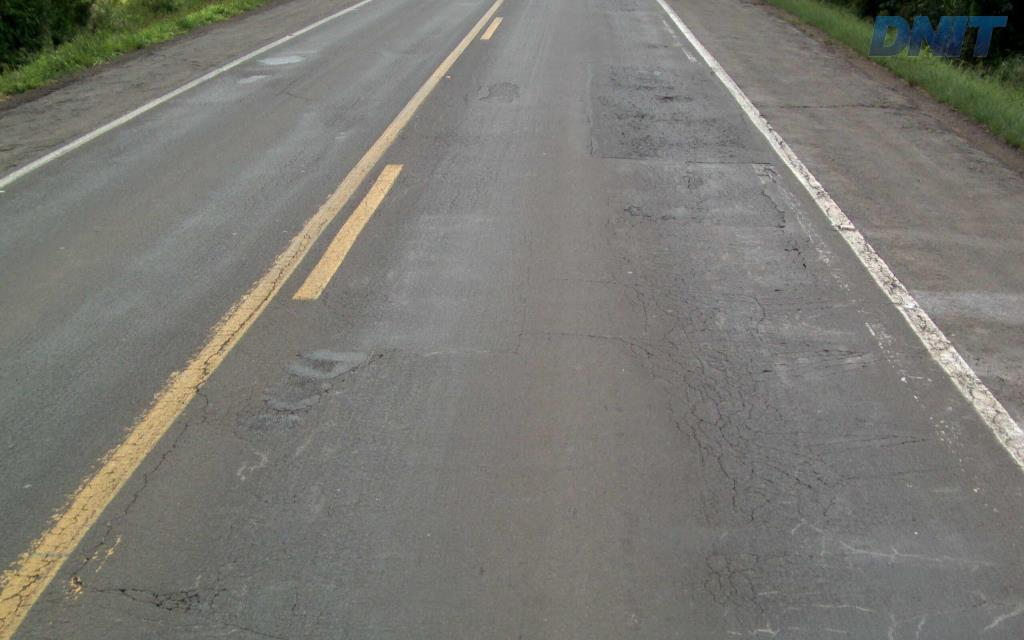crack: (148, 589, 200, 613)
